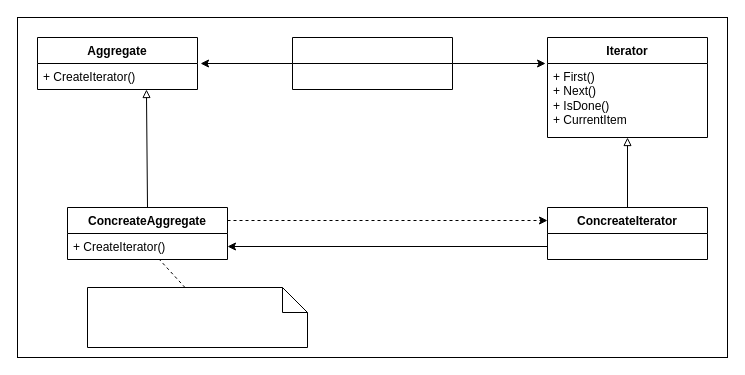
The diagram is 745 pixels wide and 375 high, and some of its shapes have lost their labels. Here are the shapes that lost their labels. From the top down, the centre of each, then its label:
(x=372, y=63): Client
(x=197, y=317): return new ConcreateIterator(this)
